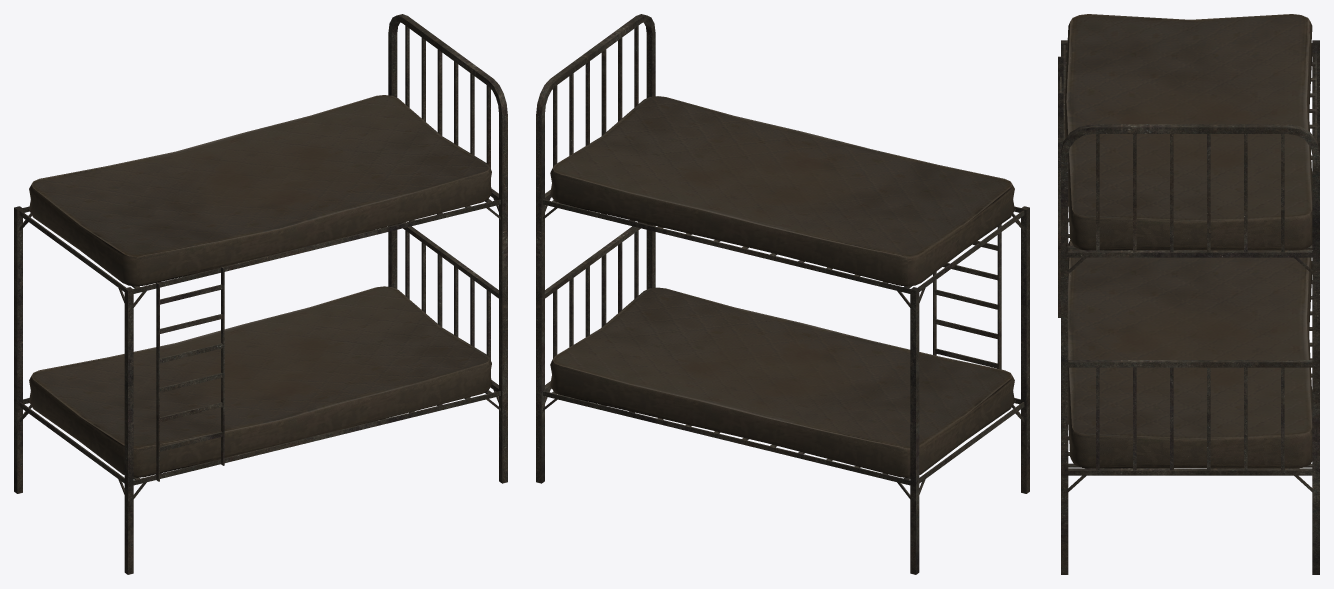
Rendered from bed_2_1.obj.
3 renders of one model, left to right at view 1: azimuth 30°, elevation 25°; view 2: azimuth 150°, elevation 25°; view 3: azimuth 270°, elevation 25°, orthographic. The views are drawn at different scales.
Parts seen in each view (by area): view 1: bed_2_1; view 2: bed_2_1; view 3: bed_2_1.
Boxes of the visible parts, x1,y1,x2,y2 form: bed_2_1: (14,14,507,574); bed_2_1: (536,14,1029,574); bed_2_1: (1058,14,1319,574).
Size of the model in its own units: 2.7 by 2.67 by 1.41.
